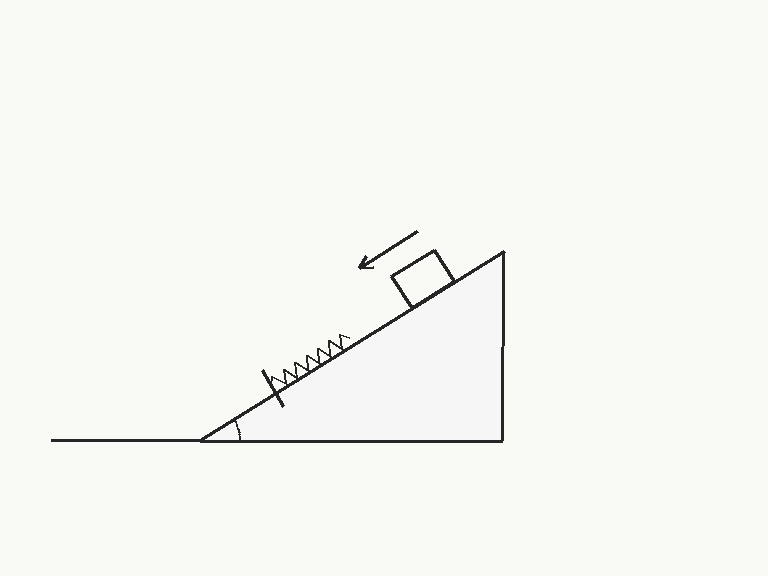block: (389, 247, 456, 310)
ramp: (198, 249, 504, 442)
spring: (269, 332, 351, 387)
